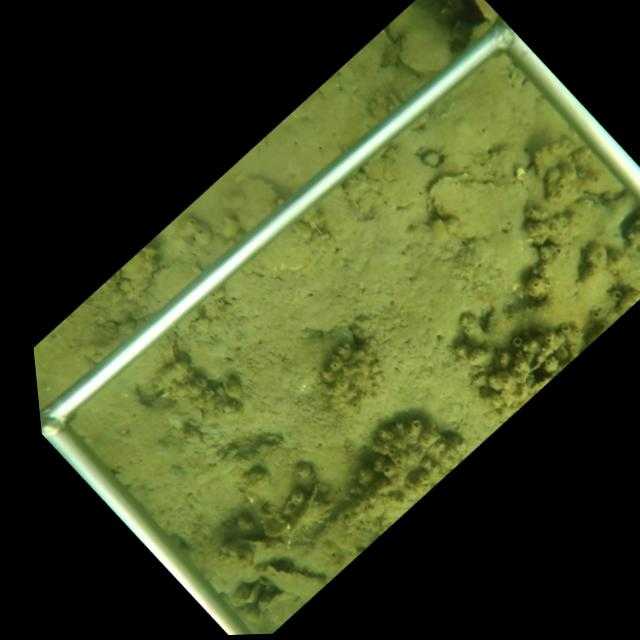Oyster-Closed: (424, 171, 530, 245), (255, 563, 329, 603)
Oyster-Indeterminate: (385, 1, 454, 76), (228, 177, 286, 234)
